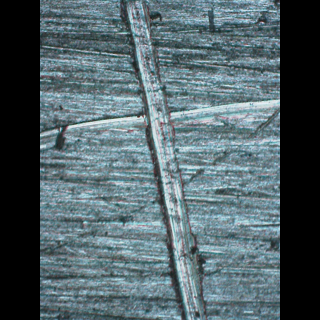d: (114, 0, 210, 317), (39, 95, 279, 140)
